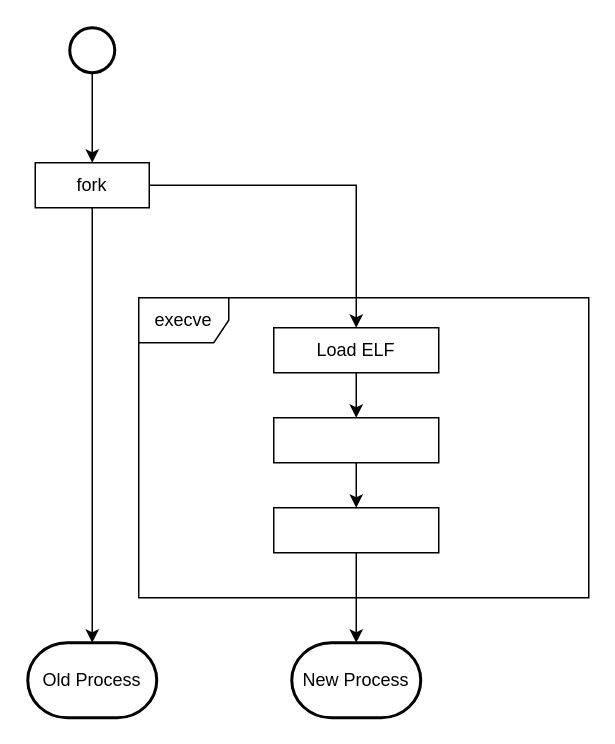
Some shapes in this 615 by 744 pixel diagram are drawn without their labels. Here are the shapes that lost their labels. From the top down, the centre of each, then its label:
pixel 355 439: Load Shared Libs
pixel 355 529: do_execve
